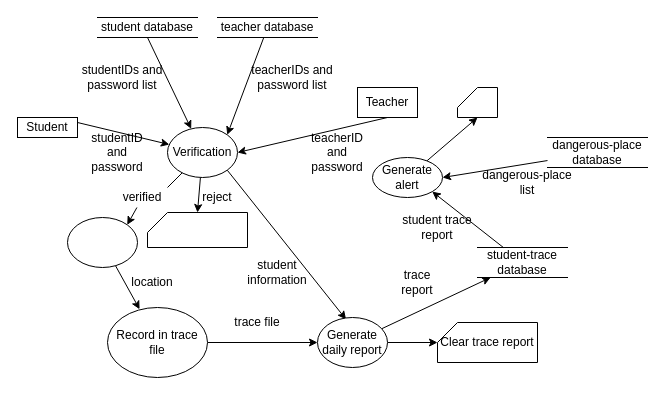
This 665x395 diagram has some shape labels left out. The centre of each missing label's shape, as x and y in pixels:
"Alert" goes at (x=477, y=102).
"Permission denied" goes at (x=197, y=230).
"Scan QR code" goes at (x=102, y=242).
